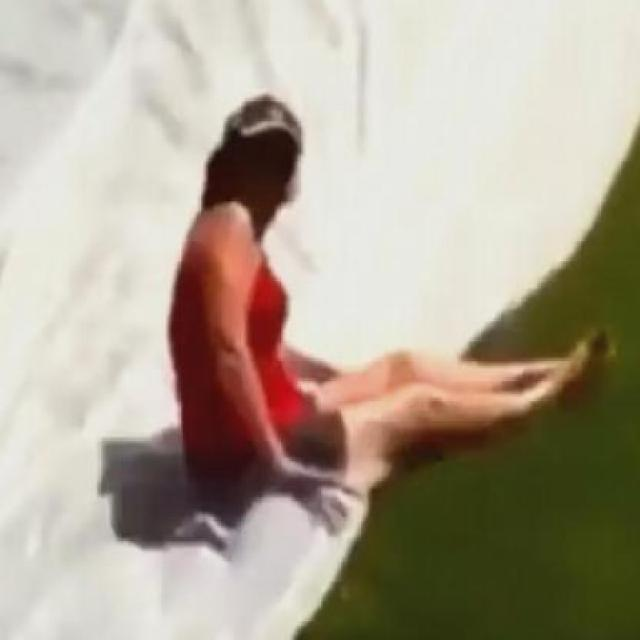fall: (166, 88, 603, 508)
